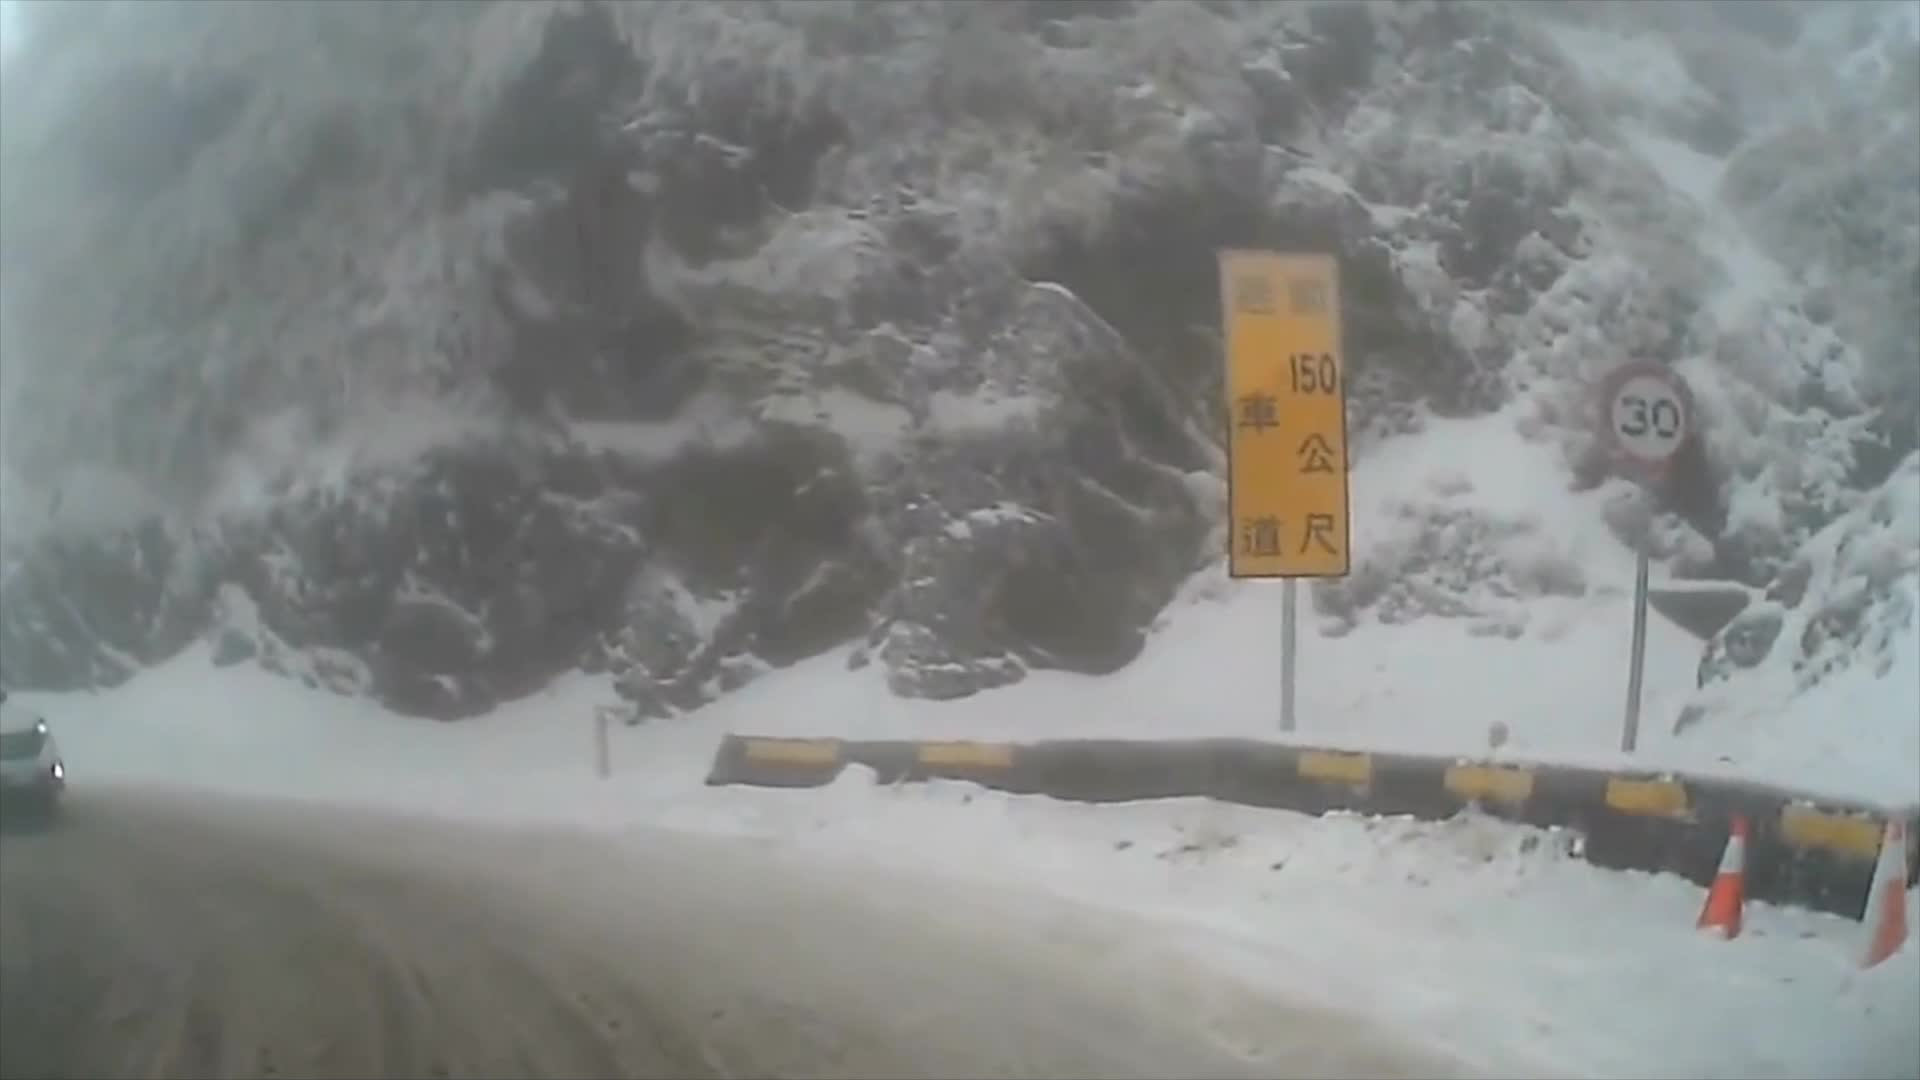vehicle: (0, 687, 63, 828)
